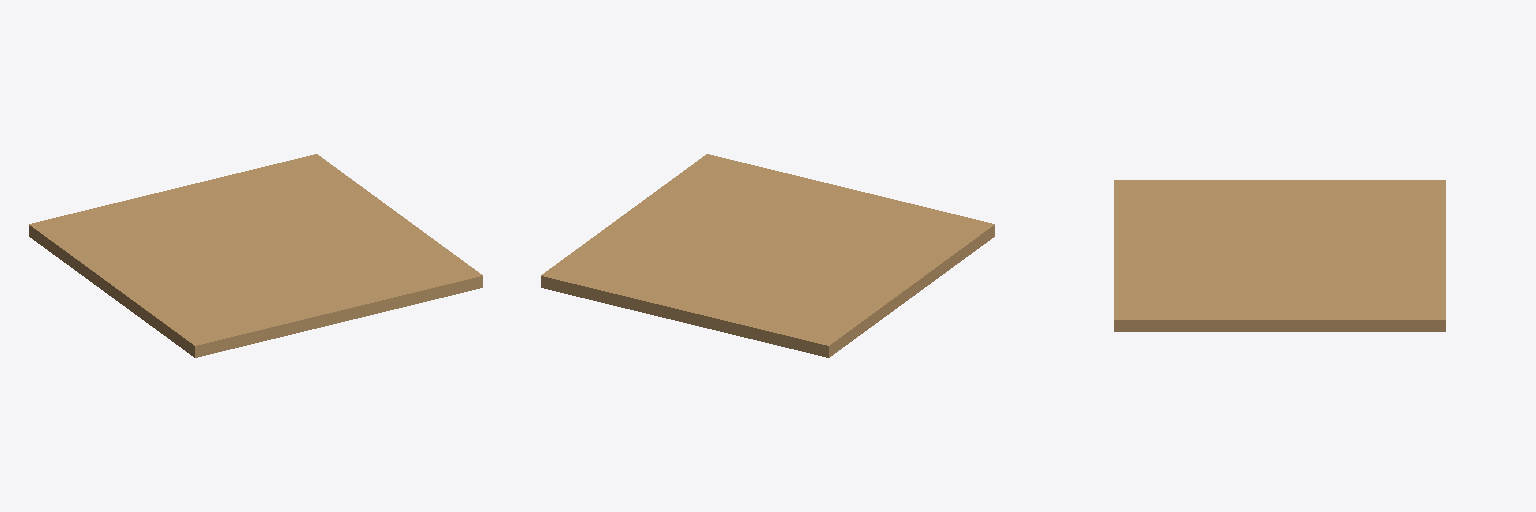
The model's file is 16693_Square_Mirror-Pine_V1.obj.
The picture shows the model from 3 angles: view 1: azimuth 30°, elevation 25°; view 2: azimuth 150°, elevation 25°; view 3: azimuth 270°, elevation 25°; orthographic projection.
Parts seen in each view (by area): view 1: Square_Mirror_wood__Square_Mirror_wood_; view 2: Square_Mirror_wood__Square_Mirror_wood_; view 3: Square_Mirror_wood__Square_Mirror_wood_.
Part boxes in pixels (left/top/right/bottom): Square_Mirror_wood__Square_Mirror_wood_: left=29, top=154, right=482, bottom=357; Square_Mirror_wood__Square_Mirror_wood_: left=541, top=154, right=994, bottom=357; Square_Mirror_wood__Square_Mirror_wood_: left=1114, top=180, right=1445, bottom=331.
Size of the model in its own units: 25 by 1 by 25.